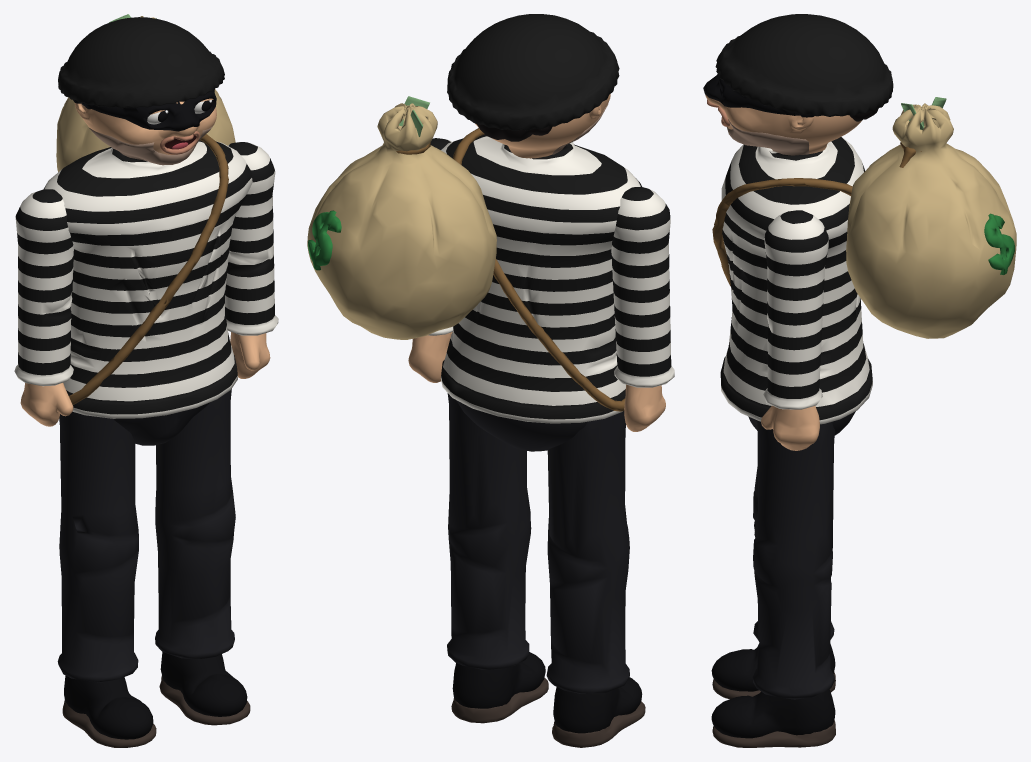
File: ricky.glb
The picture shows the model from 3 angles, left to right: view 1: azimuth 30°, elevation 25°; view 2: azimuth 150°, elevation 25°; view 3: azimuth 270°, elevation 25°; orthographic projection. The views are drawn at different scales.
Parts seen in each view (by area): view 1: Body_Mesh, LegR_Mesh, LegL_Mesh, ArmR_Mesh, Beanie, ArmL_Mesh, MoneySack, Head_Mesh, Mask, Stubble, Mouth; view 2: Body_Mesh, MoneySack, LegR_Mesh, LegL_Mesh, Beanie, ArmR_Mesh, Head_Mesh, ArmL_Mesh; view 3: MoneySack, LegL_Mesh, Body_Mesh, Beanie, ArmL_Mesh, Head_Mesh, LegR_Mesh, Stubble, Mask.
Boxes of the visible parts, bbox=[...] form: Body_Mesh: bbox=[44, 140, 252, 445]; LegR_Mesh: bbox=[57, 411, 156, 747]; LegL_Mesh: bbox=[155, 389, 250, 725]; ArmR_Mesh: bbox=[14, 189, 73, 426]; Beanie: bbox=[58, 17, 224, 108]; ArmL_Mesh: bbox=[225, 142, 278, 378]; MoneySack: bbox=[56, 14, 235, 404]; Head_Mesh: bbox=[74, 98, 216, 154]; Mask: bbox=[73, 88, 216, 131]; Stubble: bbox=[89, 124, 214, 165]; Mouth: bbox=[160, 131, 199, 154]; Body_Mesh: bbox=[441, 134, 641, 451]; MoneySack: bbox=[307, 96, 625, 411]; LegR_Mesh: bbox=[546, 411, 645, 747]; LegL_Mesh: bbox=[447, 393, 548, 723]; Beanie: bbox=[447, 14, 619, 130]; ArmR_Mesh: bbox=[611, 186, 674, 431]; Head_Mesh: bbox=[470, 94, 610, 158]; ArmL_Mesh: bbox=[408, 138, 452, 382]; MoneySack: bbox=[712, 97, 1016, 338]; LegL_Mesh: bbox=[711, 420, 835, 747]; Body_Mesh: bbox=[720, 136, 872, 435]; Beanie: bbox=[715, 14, 893, 116]; ArmL_Mesh: bbox=[761, 210, 828, 450]; Head_Mesh: bbox=[705, 88, 878, 153]; LegR_Mesh: bbox=[711, 431, 835, 698]; Stubble: bbox=[727, 119, 809, 155]; Mask: bbox=[703, 74, 814, 117].
Size of the model in its own units: 0.7496 by 1.79 by 0.7381.
